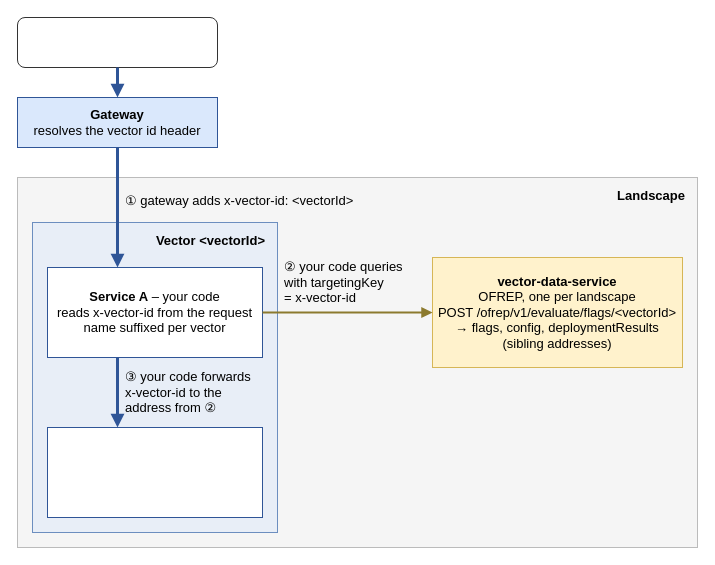
This 715x565 diagram has some shape labels left out. The centre of each missing label's shape, as x and y in pixels:
"Incoming request HTTPS <svc>.<stage>.<domain>" belongs at point 117,42.
"Service B – your code reads x-vector-id from the request" belongs at point 154,472.
